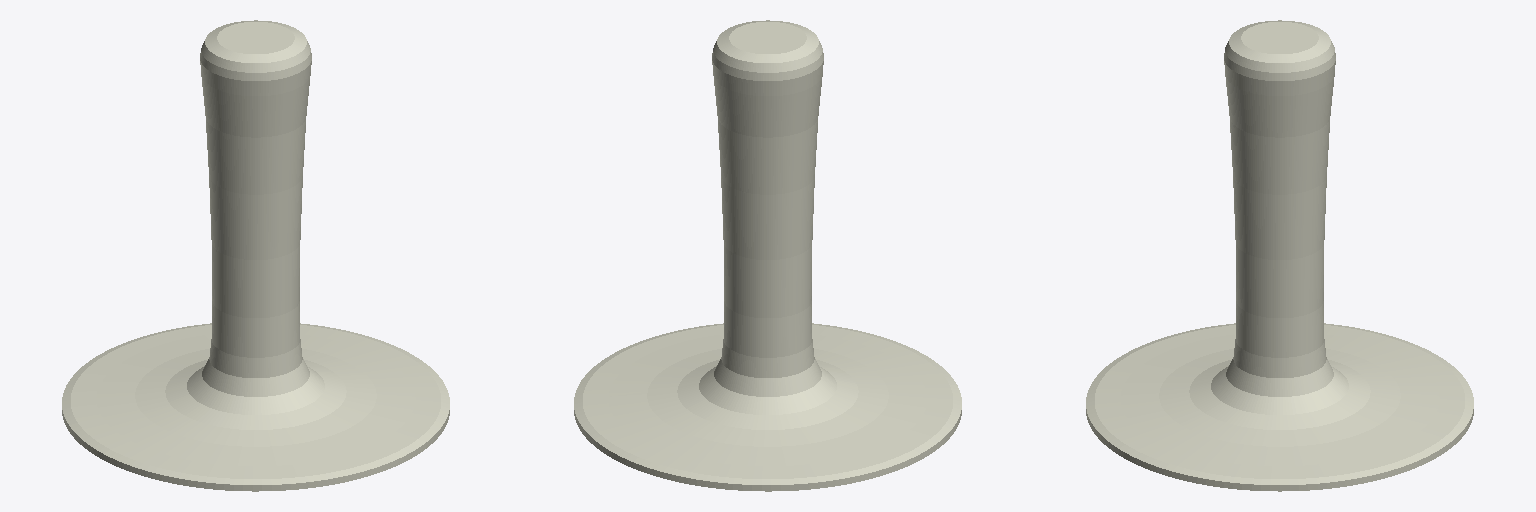
robot.urdf — hotteok_press_m0609:
<?xml version="1.0"?>
<robot name="hotteok_press_m0609">
  <!-- Z=0 is flat putty-contact surface; Z=0.095 is handle top. SI units. -->
  <material name="warm_white"><color rgba="0.86 0.86 0.80 1"/></material>
  <link name="hotteok_press_link">
    <visual><geometry><mesh filename="package://hotteok_press_description/meshes/hotteok_press.stl" scale="1 1 1"/></geometry><material name="warm_white"/></visual>
    <collision><geometry><mesh filename="package://hotteok_press_description/meshes/hotteok_press.stl" scale="1 1 1"/></geometry></collision>
    <!-- Placeholder only: replace measured mass/inertia before simulation or control. -->
    <inertial><origin xyz="0 0 0.025"/><mass value="0.20"/><inertia ixx="0.00015" ixy="0" ixz="0" iyy="0.00015" iyz="0" izz="0.00020"/></inertial>
  </link>
  <link name="putty_contact_tcp"/>
  <joint name="contact_fixed" type="fixed"><parent link="hotteok_press_link"/><child link="putty_contact_tcp"/><origin xyz="0 0 0" rpy="0 0 0"/></joint>
  <link name="handle_grasp_frame"/>
  <joint name="grasp_fixed" type="fixed"><parent link="hotteok_press_link"/><child link="handle_grasp_frame"/><origin xyz="0 0 0.065" rpy="0 0 0"/></joint>
</robot>

--- Facts derived from the render (not from the file) ---
3 views of the same robot in one strip: view 1: azimuth 30°, elevation 25°; view 2: azimuth 150°, elevation 25°; view 3: azimuth 270°, elevation 25° (orthographic).
Model hotteok_press_m0609 with 3 links and 2 joints (2 fixed), rooted at hotteok_press_link, posed every joint at zero.
Visible links, largest first — view 1: hotteok_press_link; view 2: hotteok_press_link; view 3: hotteok_press_link.
Link boxes in pixels (x1,y1,x2,y2): hotteok_press_link: (62,20,449,491); hotteok_press_link: (574,20,961,491); hotteok_press_link: (1086,20,1473,491).
Bounding box of the posed robot: 0.09 × 0.09 × 0.095 m (x, y, z).
1 mesh visuals loaded from 1 distinct referenced files (1 binary STL).
